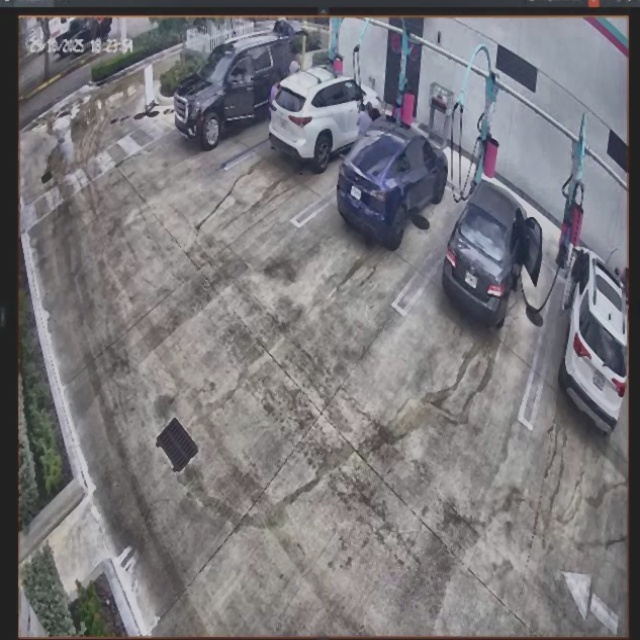Car: (442, 180, 542, 337), (340, 119, 447, 236), (270, 64, 381, 166)
